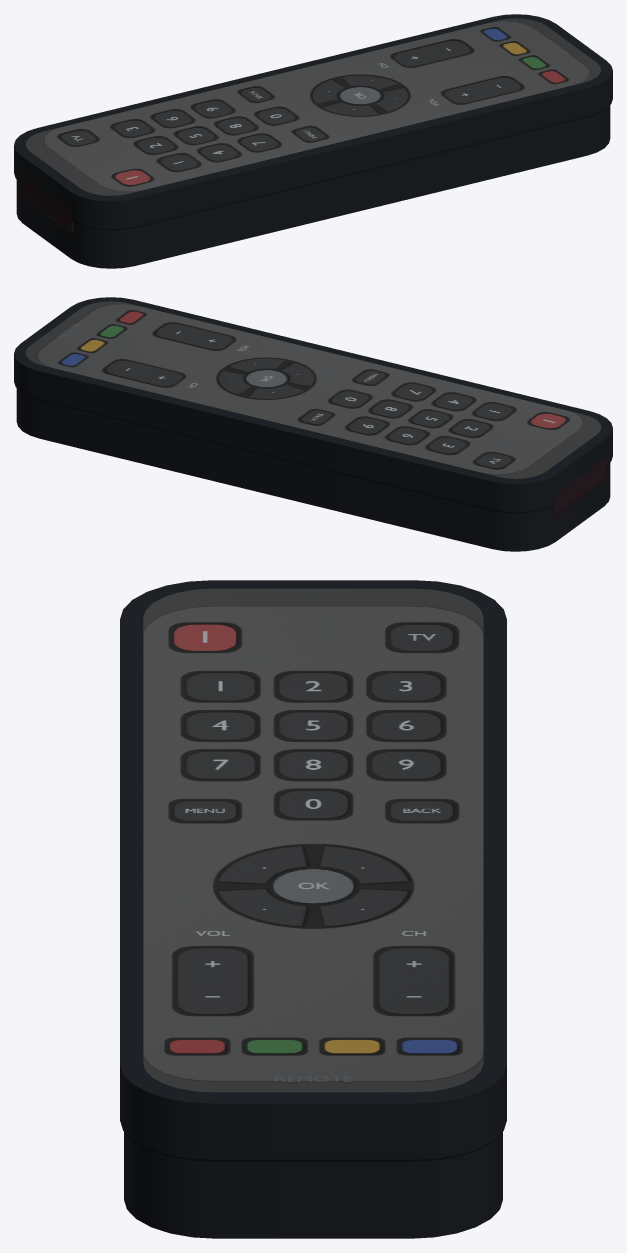
Rendered from controle_remoto.glb.
The picture shows the model from 3 angles, top to bottom: view 1: azimuth 30°, elevation 25°; view 2: azimuth 150°, elevation 25°; view 3: azimuth 270°, elevation 25°; orthographic projection. The views are drawn at different scales.
Parts seen in each view (by area): view 1: Painel fotografado dos botoes, Carcaca superior, Carcaca inferior, Janela infravermelha, Junta perimetral; view 2: Painel fotografado dos botoes, Carcaca superior, Carcaca inferior, Janela infravermelha, Junta perimetral; view 3: Painel fotografado dos botoes, Carcaca superior, Carcaca inferior, Junta perimetral.
Boxes of the visible parts, x1,y1,x2,y2 form: Painel fotografado dos botoes: (25,18,601,195); Carcaca superior: (14,14,612,229); Carcaca inferior: (16,105,610,268); Janela infravermelha: (20,174,73,233); Junta perimetral: (16,105,609,230); Painel fotografado dos botoes: (25,301,601,478); Carcaca superior: (14,297,612,512); Carcaca inferior: (16,388,610,551); Janela infravermelha: (553,457,606,516); Junta perimetral: (17,388,610,513); Painel fotografado dos botoes: (143,588,483,1092); Carcaca superior: (120,580,506,1159); Carcaca inferior: (124,1132,502,1238); Junta perimetral: (124,1132,502,1161).
Bounding box in the file's own units: 0.16 × 0.0197 × 0.05.
4 materials, 1 textured.
